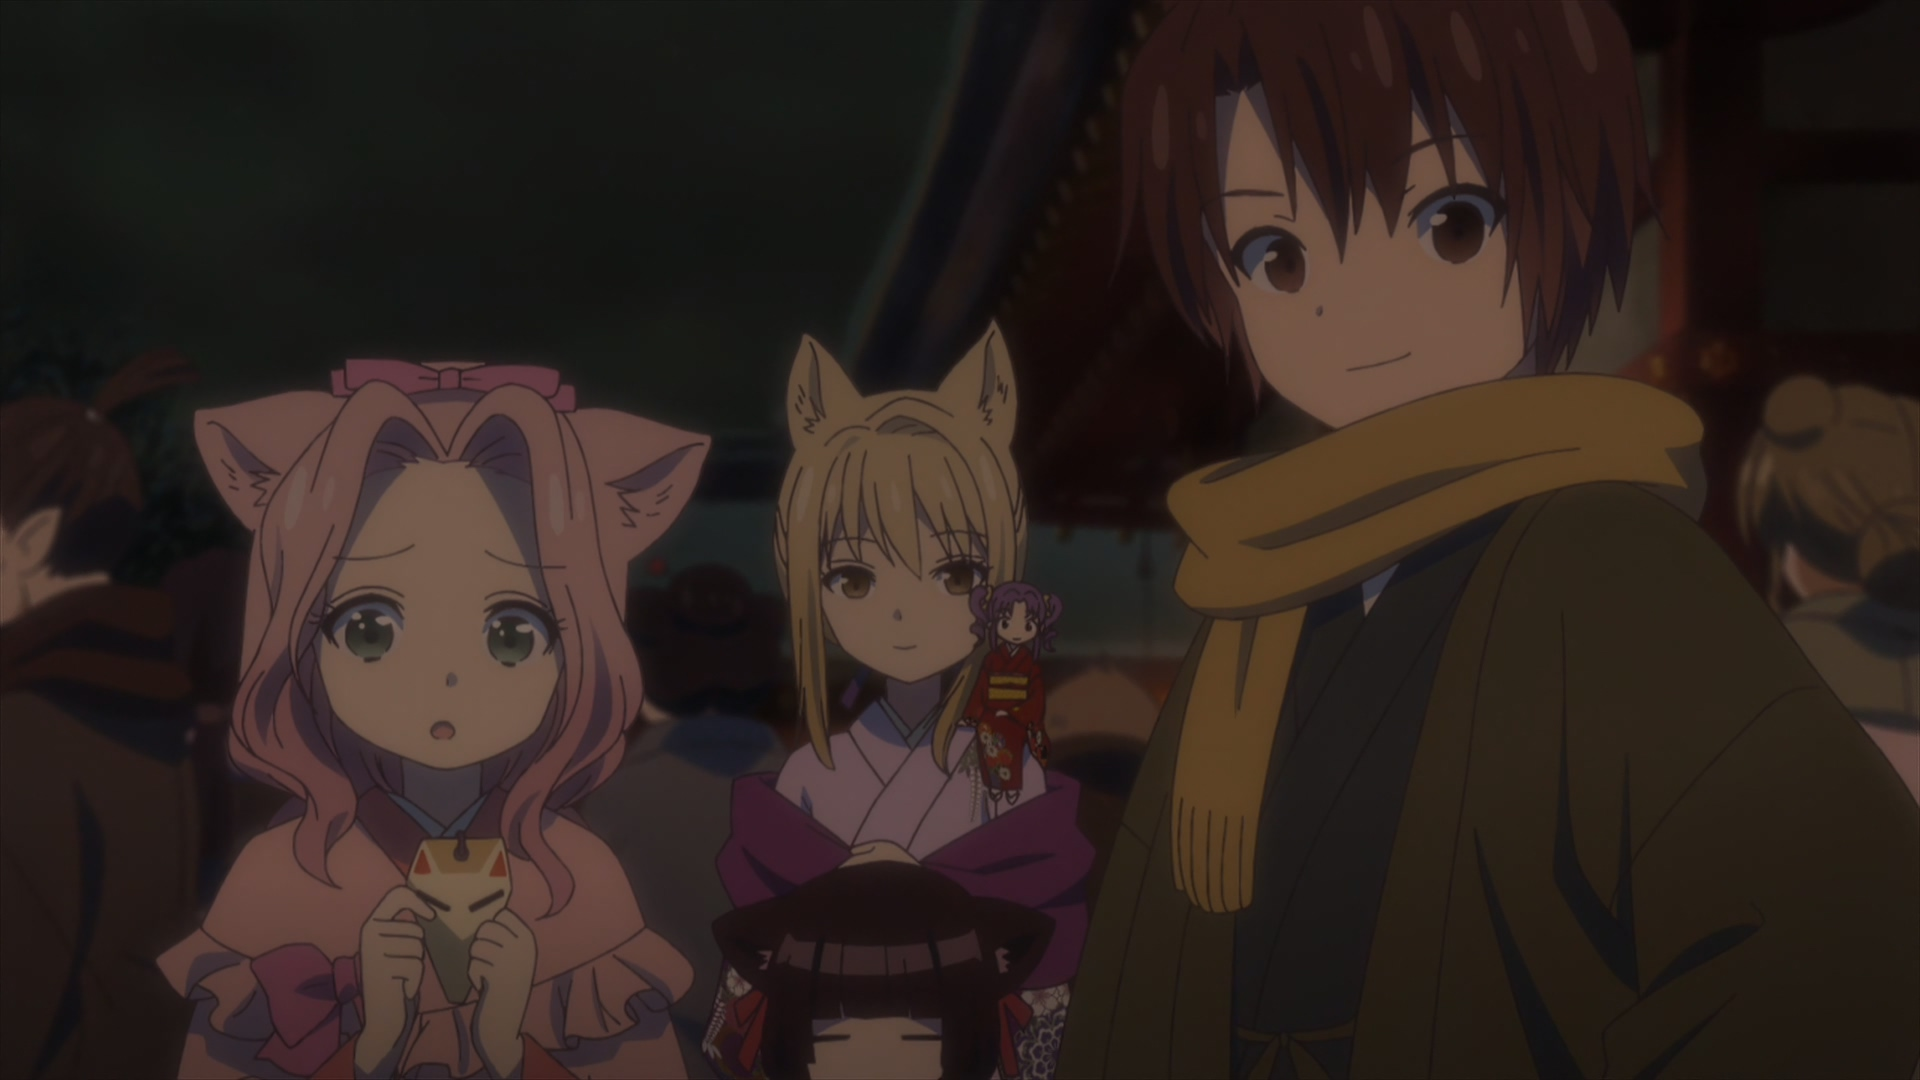其他: (1, 335, 211, 1080), (1731, 376, 1920, 793)
枣: (1055, 1, 1920, 1080)
桐: (704, 313, 1116, 1080)
樱: (712, 860, 1054, 1080)
莲: (153, 353, 711, 1080)
阿菊: (960, 580, 1062, 802)
